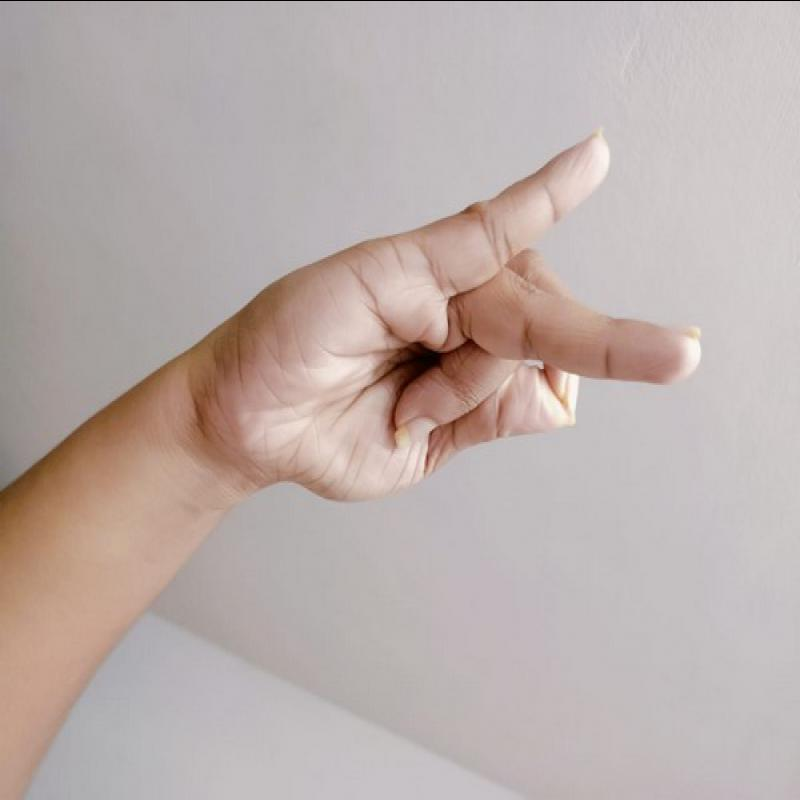Katakam: (179, 112, 718, 521)
